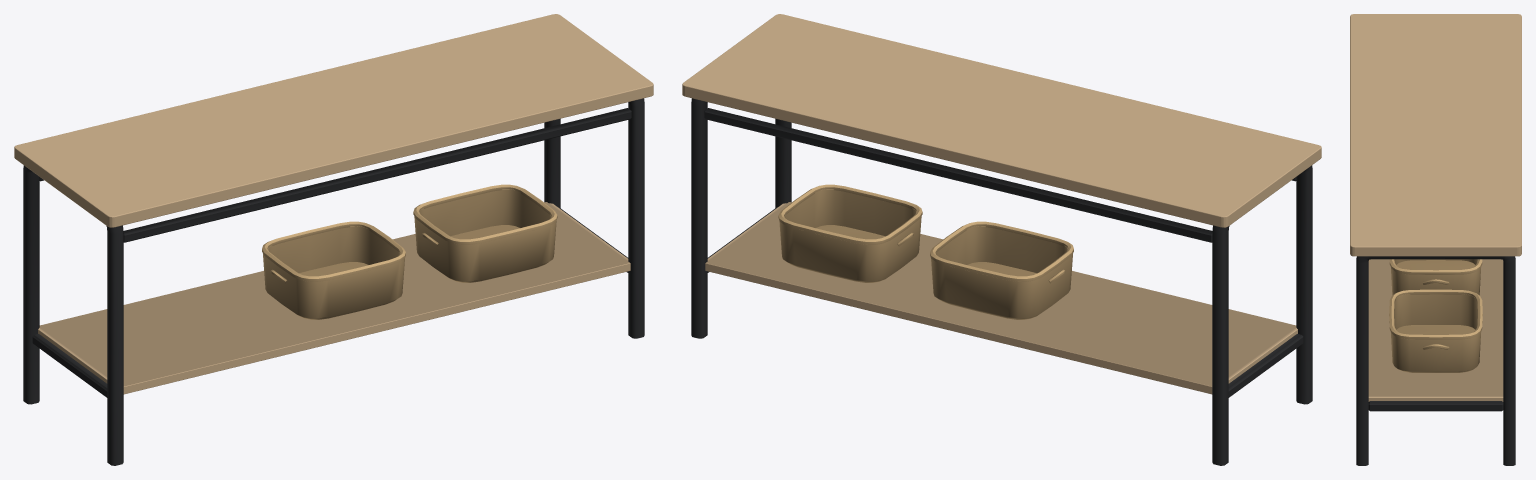
File: consoleTable.glb
The picture shows the model from 3 angles, left to right: view 1: azimuth 30°, elevation 25°; view 2: azimuth 150°, elevation 25°; view 3: azimuth 270°, elevation 25°; orthographic projection. The views are drawn at different scales.
Visible parts, largest first — view 1: consoleTable; view 2: consoleTable; view 3: consoleTable.
Boxes of the visible parts, box(x1,y1,x2,y2) form: consoleTable: box(14, 14, 653, 465); consoleTable: box(682, 14, 1321, 465); consoleTable: box(1350, 14, 1521, 465).
Bounding box in the file's own units: 1.8 × 0.7975 × 0.56.
